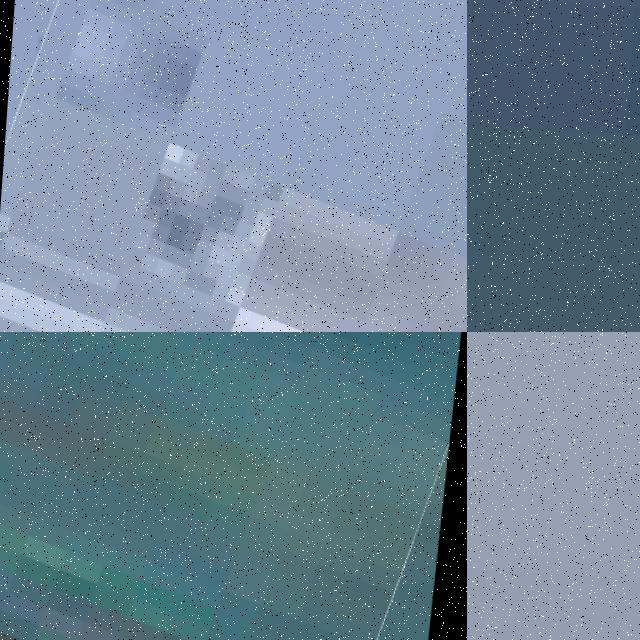drone: (0, 0, 467, 332), (0, 332, 467, 640)
